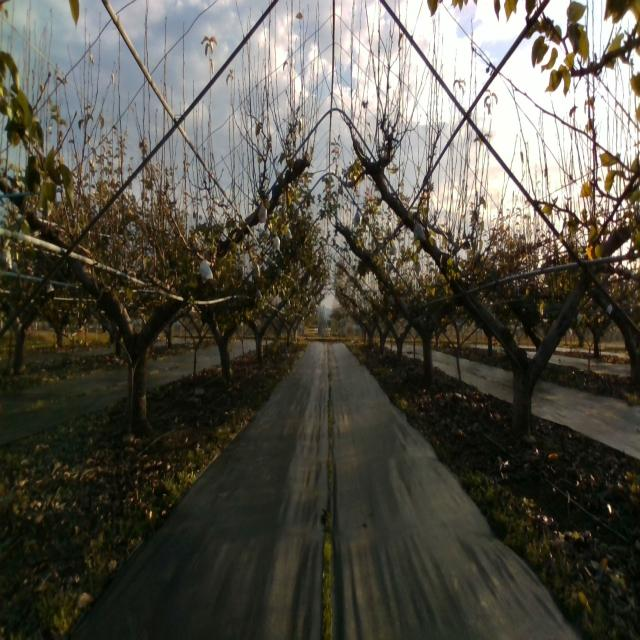pearbags: (200, 258, 213, 284), (413, 219, 426, 242), (257, 199, 267, 224)
